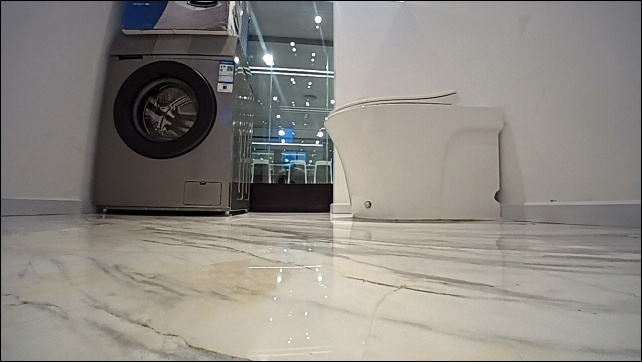toilet: (325, 89, 507, 222)
washing_machine: (93, 35, 253, 214)
